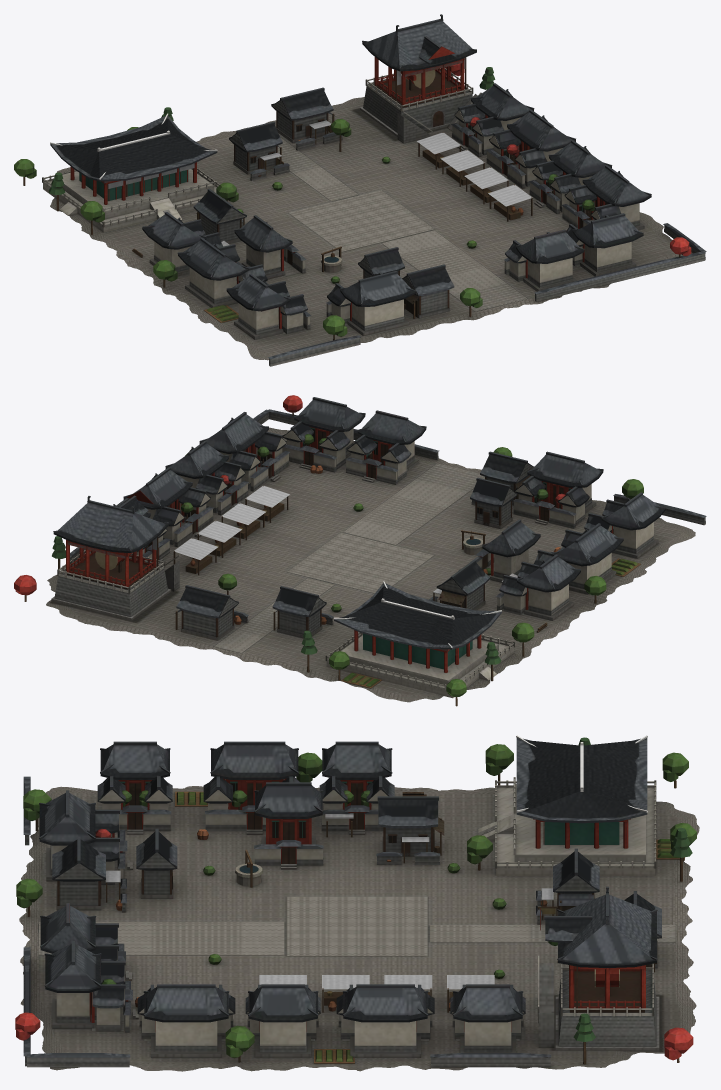
Rendered from kingdoms-town-medium-a-korea-25e3dfa8.glb.
3 views of the same model, one above another, from view 1: azimuth 30°, elevation 25°; view 2: azimuth 150°, elevation 25°; view 3: azimuth 270°, elevation 25° (orthographic). The views are drawn at different scales.
Parts seen in each view (by area): view 1: LOD0; view 2: LOD0; view 3: LOD0.
Part boxes in pixels (x1,y1,x2,y2): LOD0: (14, 14, 706, 366); LOD0: (14, 395, 706, 706); LOD0: (15, 735, 699, 1071).
Size of what is drawn, in the model's own units: 6.04 by 1.23 by 6.09.
Materials: 3 (3 with a texture image).
